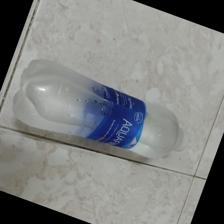Aquafina: (10, 59, 192, 154)
